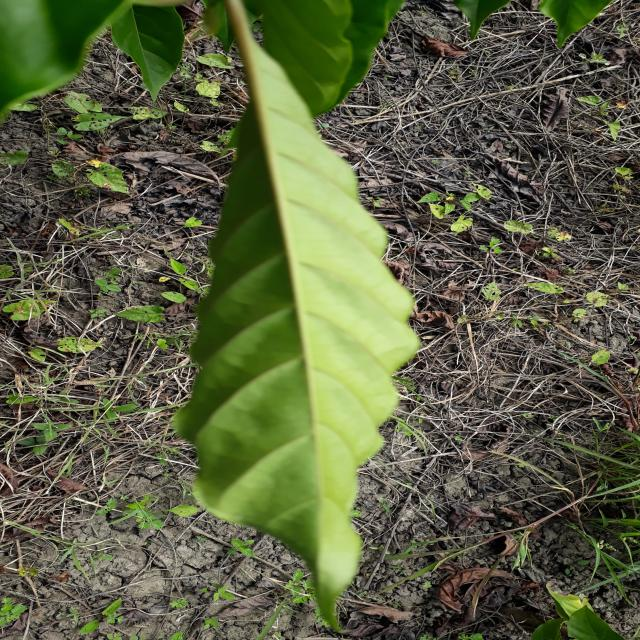Sanas: (171, 0, 421, 633)
